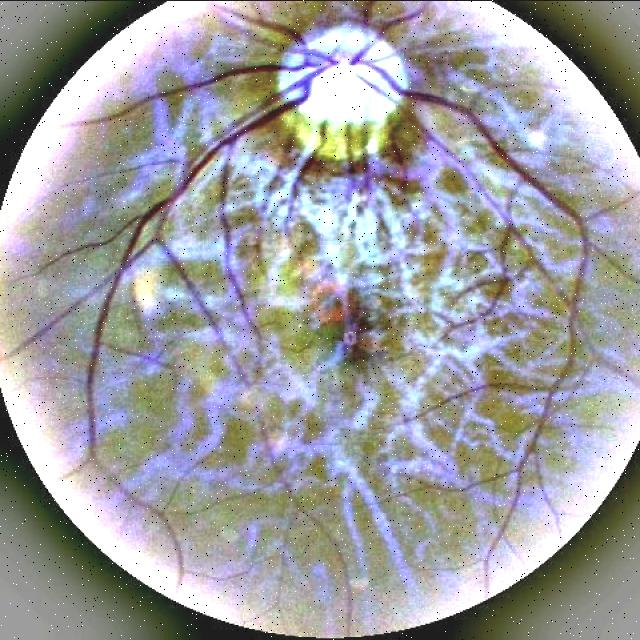Macula: (321, 292, 392, 376)
Nerves: (87, 13, 588, 384), (341, 5, 424, 43), (280, 147, 317, 223)
Optic Disk: (297, 60, 400, 157), (327, 29, 363, 43)
